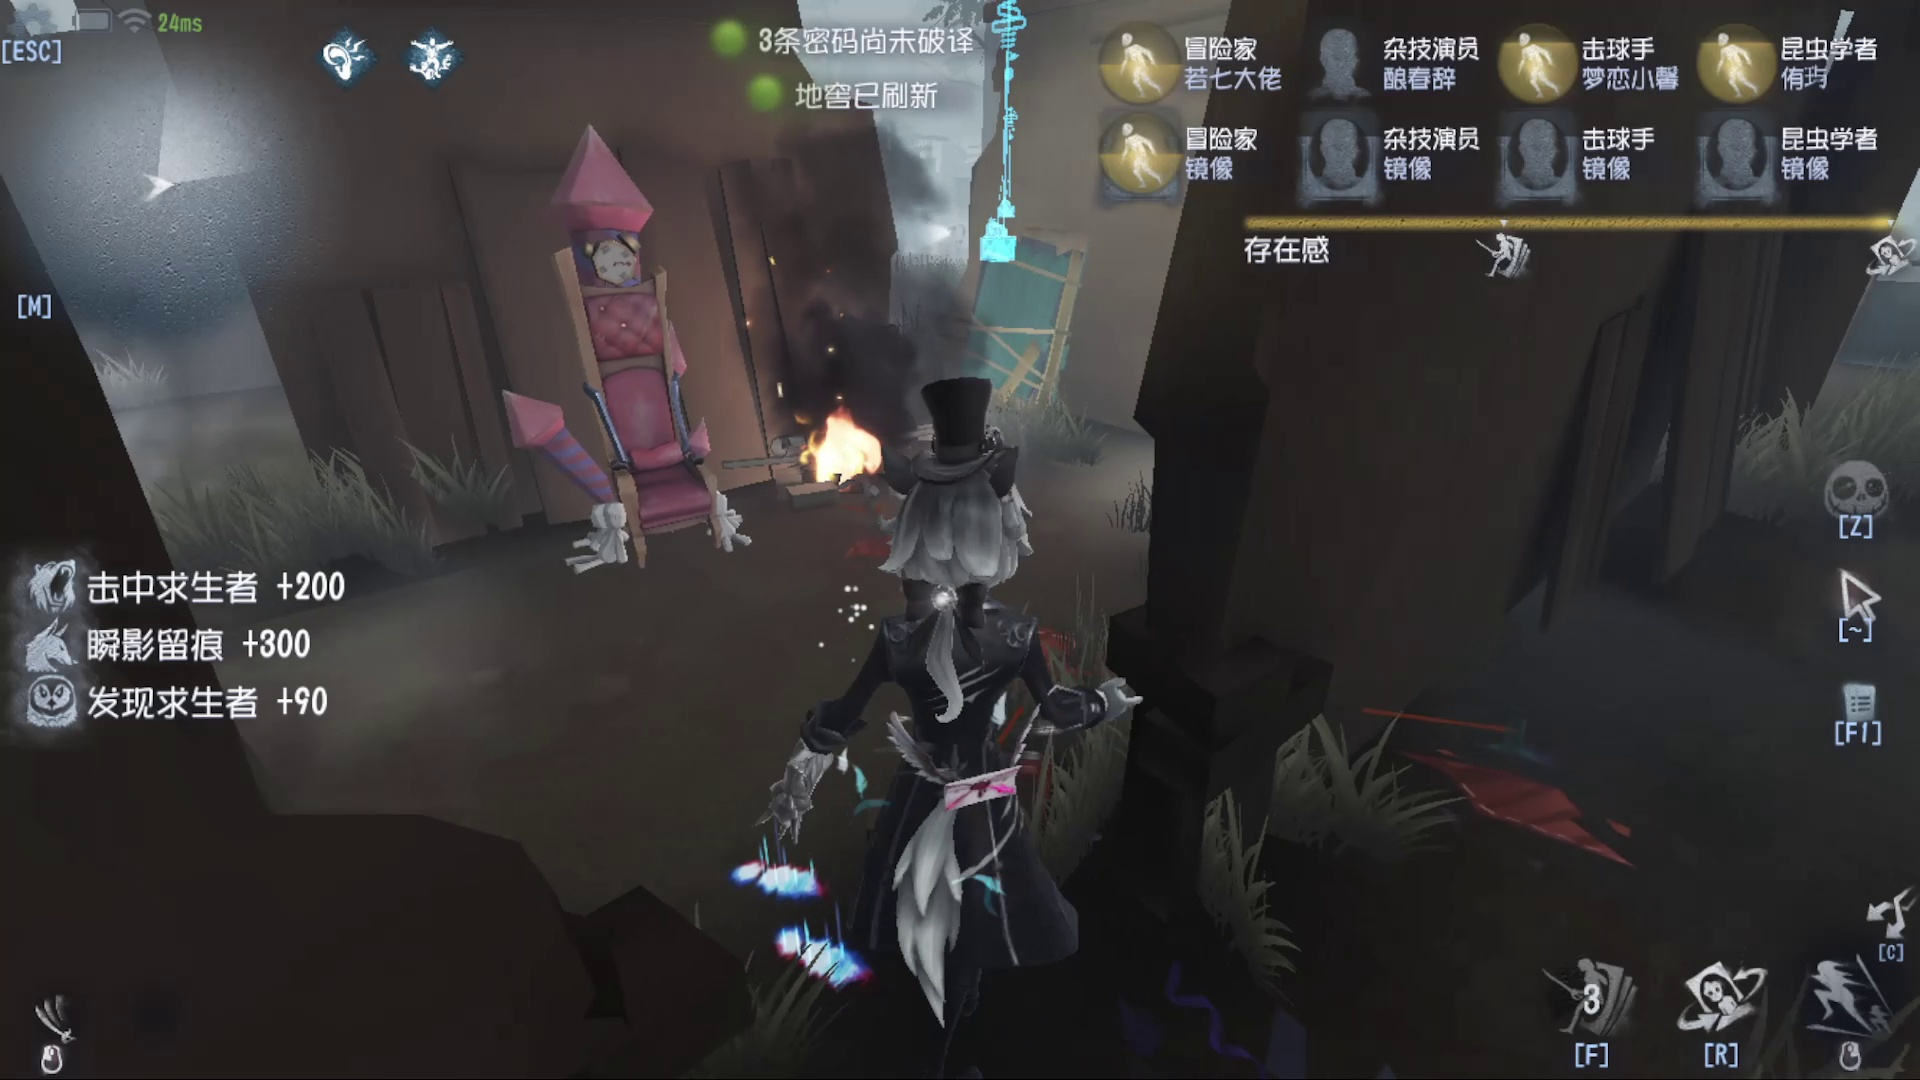木板: (940, 203, 1079, 419)
狂欢之椅: (513, 138, 764, 574)
